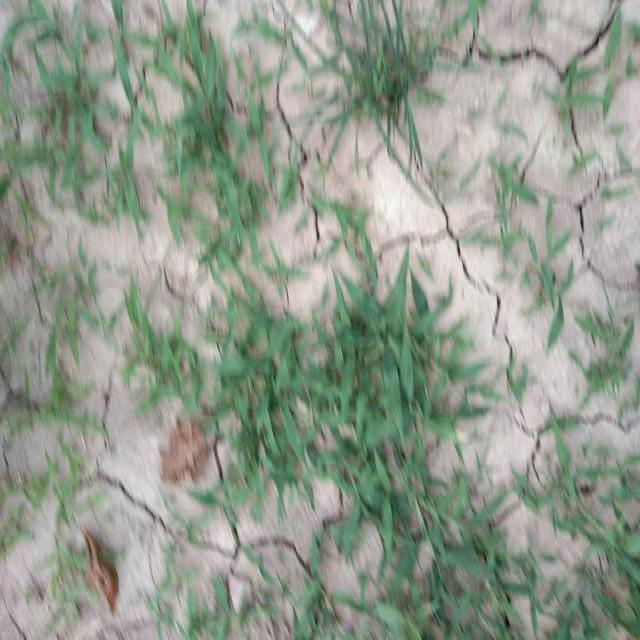weed: (221, 308, 468, 558), (5, 7, 154, 232), (529, 440, 640, 640), (386, 497, 534, 640), (154, 34, 251, 245), (10, 311, 100, 502), (344, 27, 434, 173), (120, 302, 208, 412), (324, 202, 408, 306), (280, 559, 346, 640), (525, 227, 574, 333), (581, 317, 639, 403), (38, 535, 89, 622), (470, 199, 530, 263), (158, 491, 231, 539), (31, 255, 100, 305), (262, 132, 300, 220), (256, 20, 316, 72), (548, 67, 596, 126), (476, 155, 532, 204), (602, 15, 638, 91), (260, 252, 314, 302), (198, 575, 238, 636), (200, 245, 251, 292), (504, 363, 534, 405)
